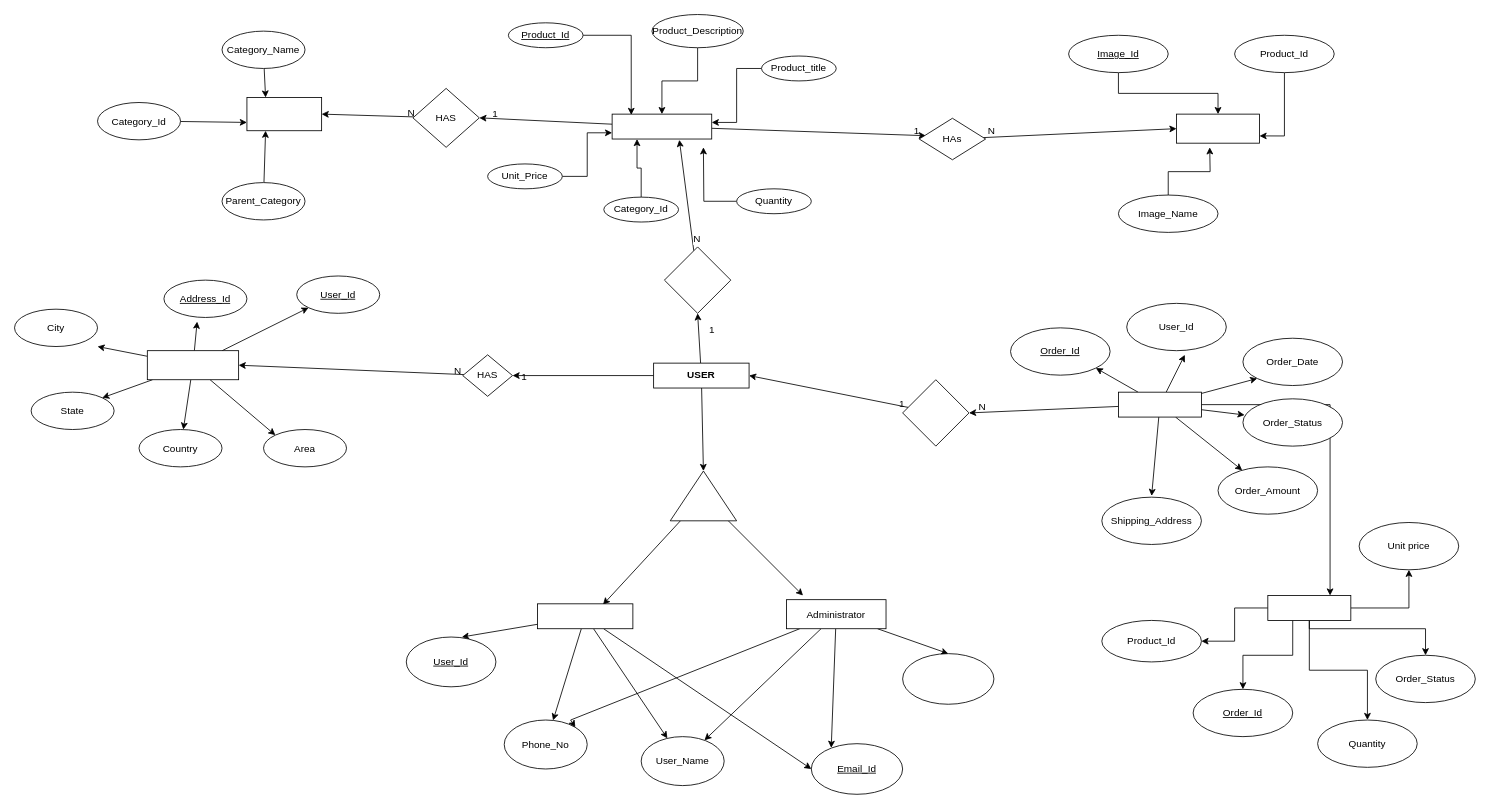
Some shapes in this 1490 by 809 pixel diagram are drawn without their labels. The box of each missing label's shape, as (x1, y1, x2, y2) in pixels:
ADDRESS: (146, 350, 239, 380)
Adminsitrator_Id: (902, 653, 994, 704)
Can_ Select: (664, 246, 731, 313)
CATEGORY: (246, 97, 322, 131)
IMAGE: (1176, 113, 1260, 143)
Is a: (669, 470, 737, 521)
ITEM-ORDER: (1267, 595, 1351, 620)
Of: (902, 379, 969, 446)
ORDERS: (1118, 391, 1201, 417)
PRODUCT: (611, 113, 712, 139)
SHOPPER: (537, 603, 633, 629)
